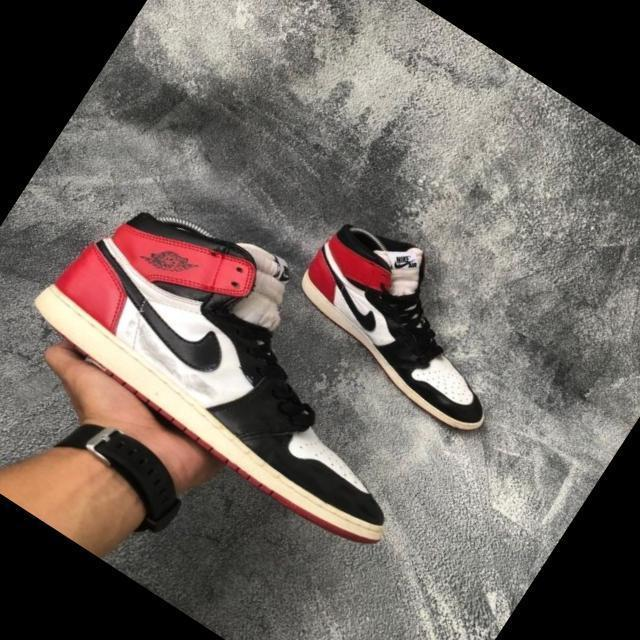nike fake jordan 1: (12, 151, 484, 560), (276, 202, 554, 450)
